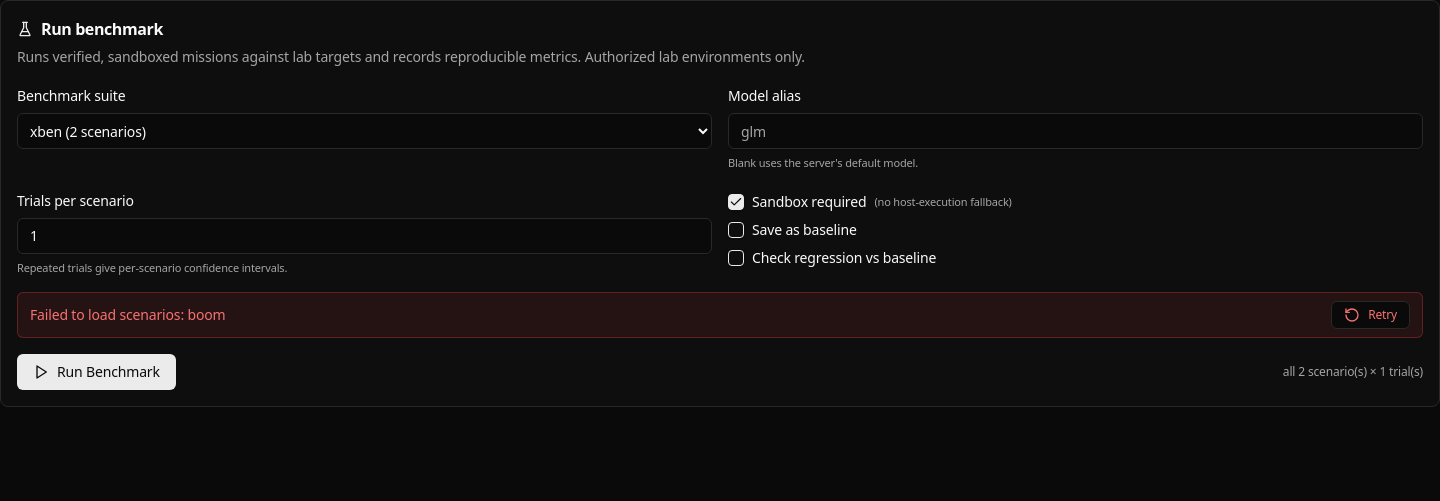
Scenario: RunBenchmarkPanel › surfaces scenario-load failures and recovers via Retry
Expected: the text "Failed to load scenarios: boom" is shown, top-left (30, 305), bottom-right (226, 325)
Click the button "Retry".
click(1371, 315)  # box top-left (1331, 301), bottom-right (1410, 329)
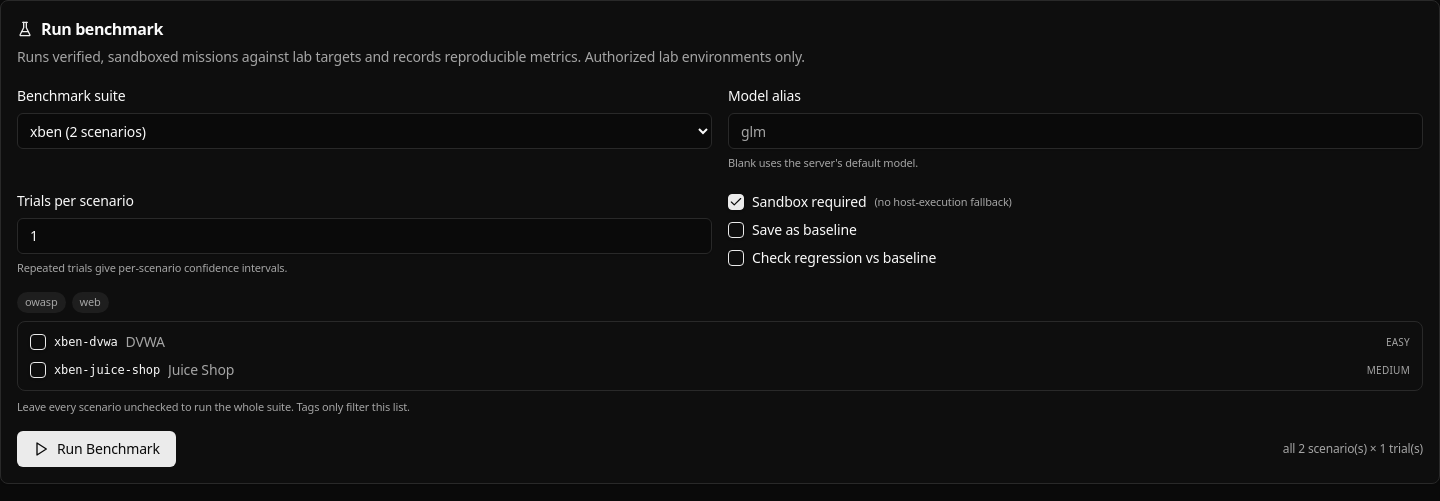
Now the text "xben-dvwa" is shown, box top-left (54, 334), bottom-right (118, 350)
Now the text "Failed to load scenarios" is gone
